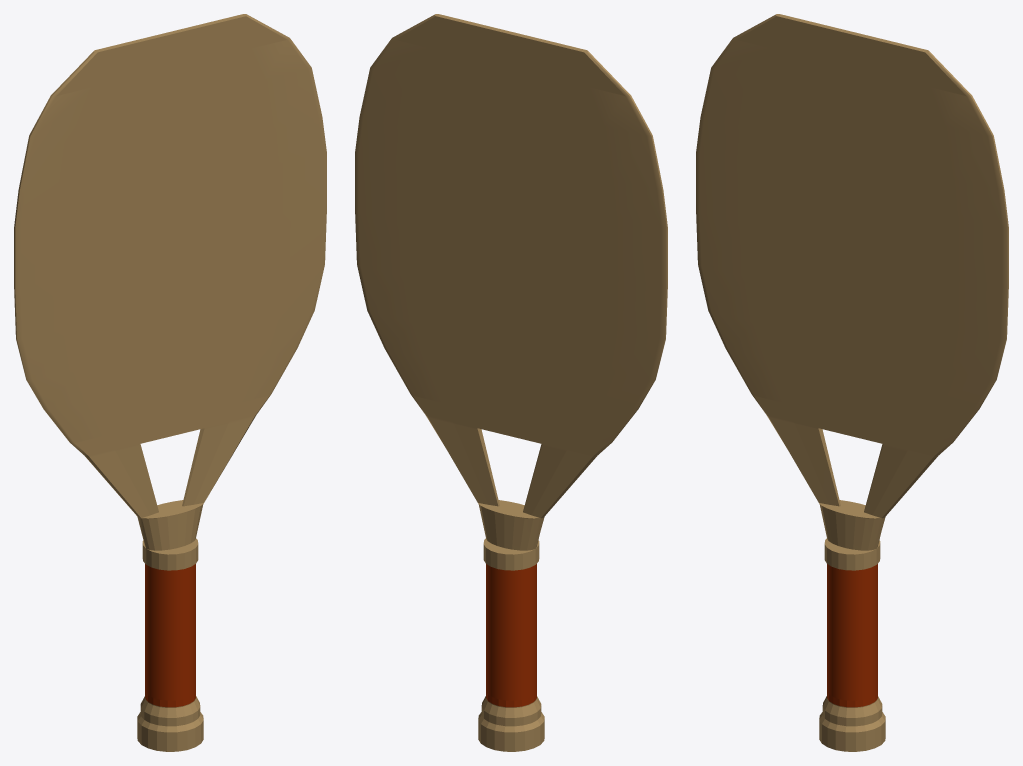
The model's file is Paddle.fbx.
3 renders of one model, left to right at view 1: azimuth 30°, elevation 25°; view 2: azimuth 150°, elevation 25°; view 3: azimuth 330°, elevation 25°, orthographic.
Parts seen in each view (by area): view 1: Paddle; view 2: Paddle; view 3: Paddle.
Part boxes in pixels (left/top/right/bottom): Paddle: left=14, top=14, right=326, bottom=751; Paddle: left=355, top=14, right=667, bottom=751; Paddle: left=696, top=14, right=1008, bottom=751.
Size of the model in its own units: 4.56 by 9.85 by 0.8485.
